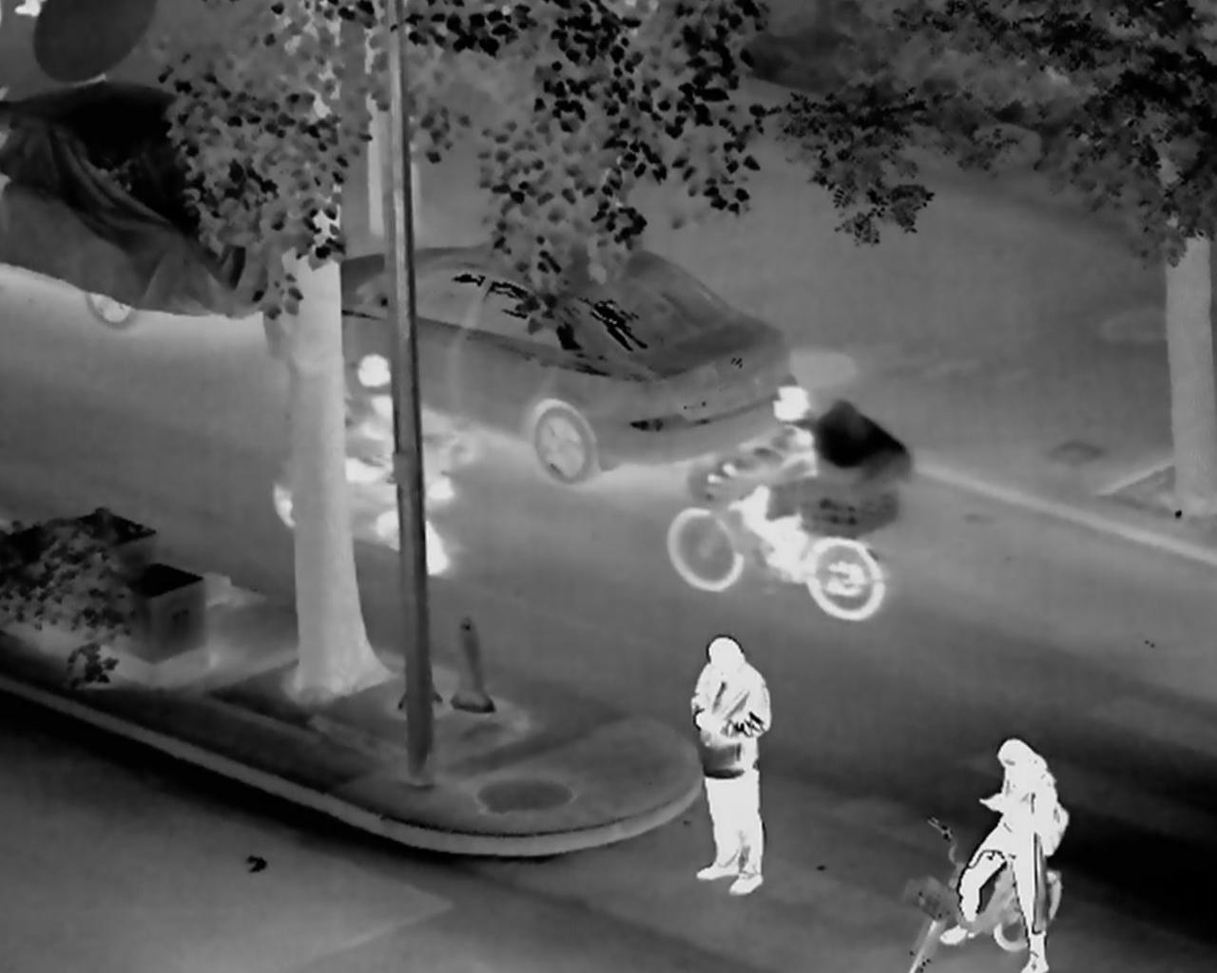person: (940, 736, 1063, 973), (688, 635, 770, 898), (710, 391, 823, 568), (302, 353, 405, 524)
